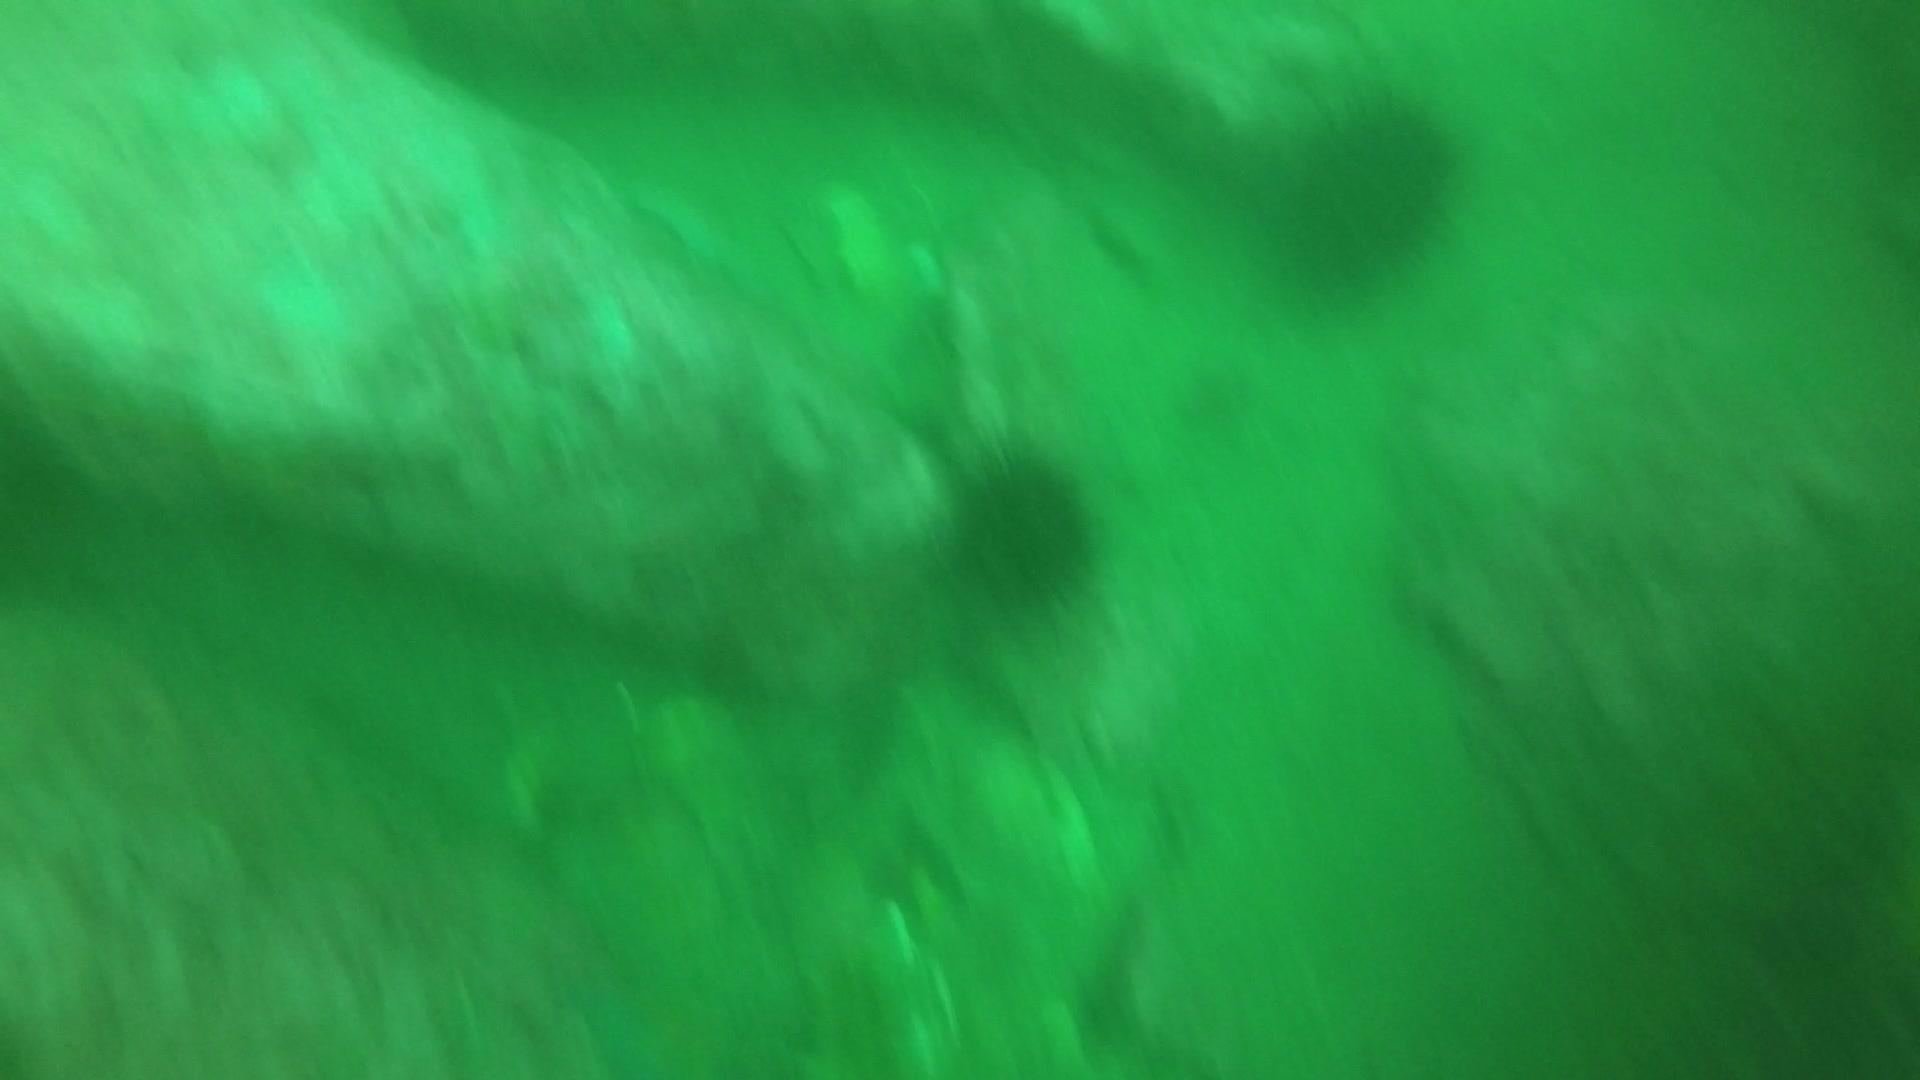echinus: (1261, 84, 1472, 303), (938, 440, 1106, 616)
